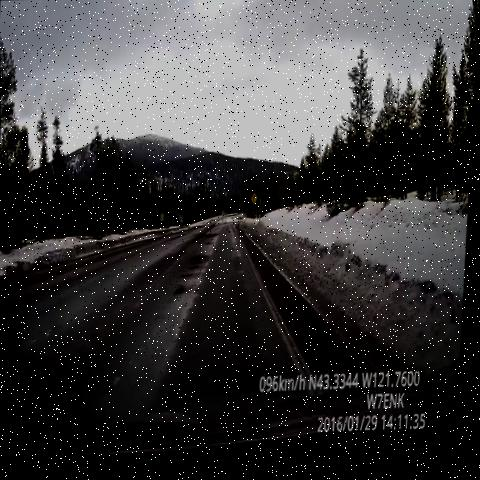pothole: (174, 280, 196, 304), (189, 251, 214, 272), (180, 268, 200, 288), (197, 231, 221, 247), (201, 237, 221, 256)
